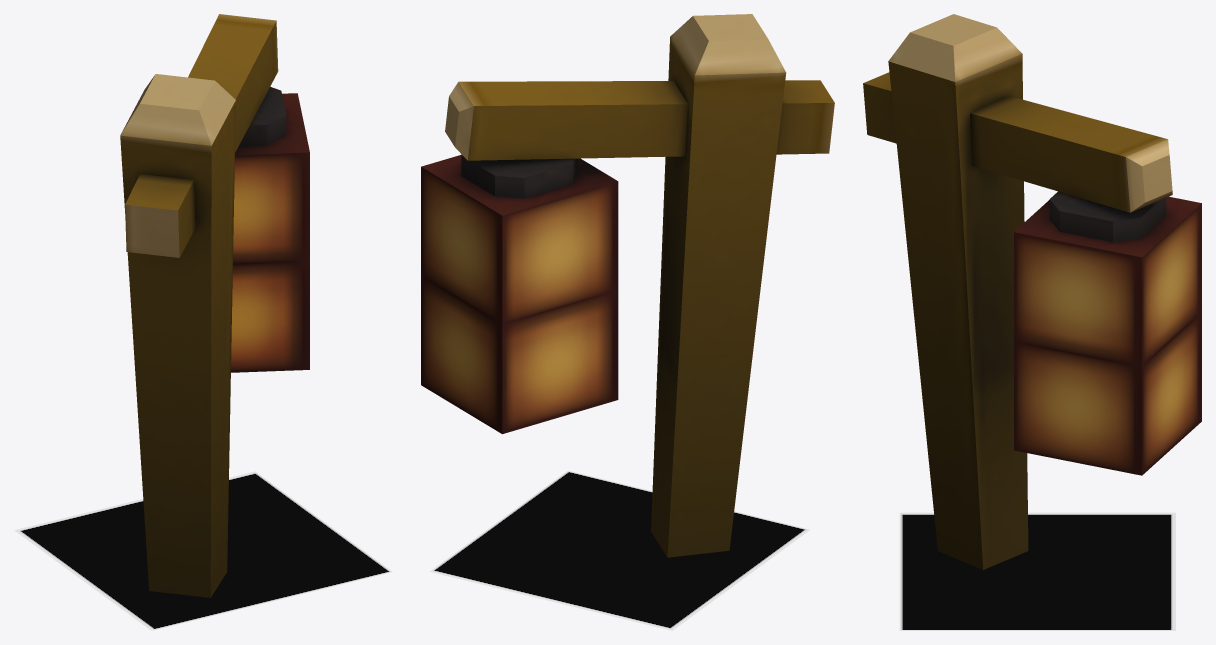
File: 1x1_lamp.FBX
The picture shows the model from 3 angles, left to right: view 1: azimuth 30°, elevation 25°; view 2: azimuth 150°, elevation 25°; view 3: azimuth 270°, elevation 25°; orthographic projection.
Visible parts, largest first — view 1: 1x1_lamp, 1x1_lamp_soft_shadow; view 2: 1x1_lamp, 1x1_lamp_soft_shadow; view 3: 1x1_lamp, 1x1_lamp_soft_shadow.
Part boxes in pixels (<box>): 1x1_lamp: <box>120,14,309,597</box>; 1x1_lamp_soft_shadow: <box>14,471,392,630</box>; 1x1_lamp: <box>421,14,834,557</box>; 1x1_lamp_soft_shadow: <box>430,470,809,630</box>; 1x1_lamp: <box>863,14,1201,569</box>; 1x1_lamp_soft_shadow: <box>899,512,1175,630</box>.
Size of the model in its own units: 866 by 1455 by 866.
